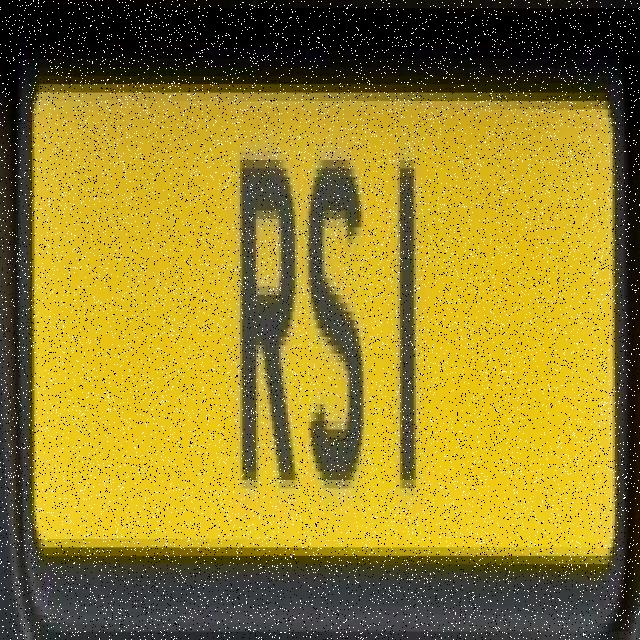licenseplate: (16, 54, 632, 594)
